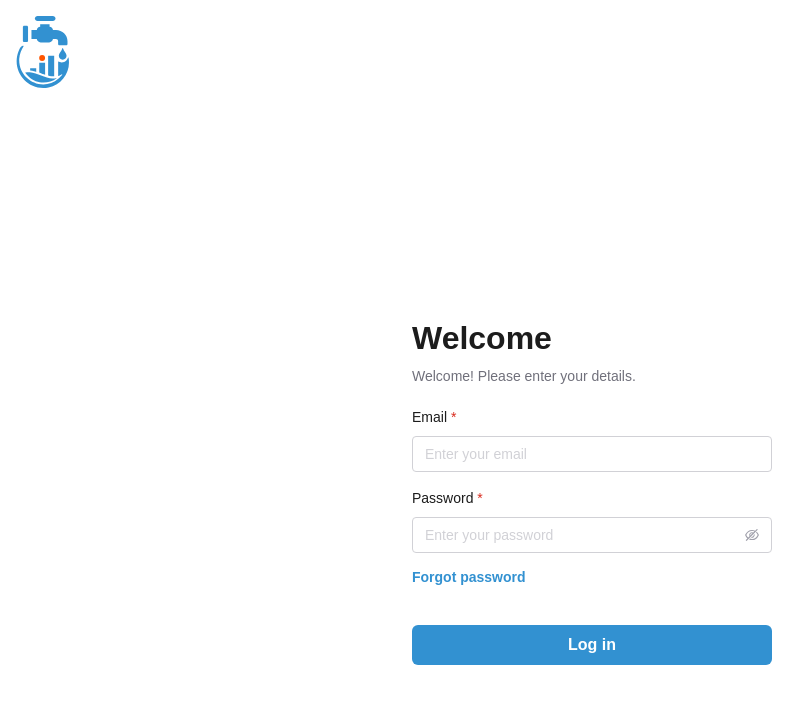
it: LoginPage — captcha enabled › blocks submit and shows captcha error until solved
In the field with placeholder "Enter your email": (592,454) left=412, top=436, right=772, bottom=472, type "user@test.com"
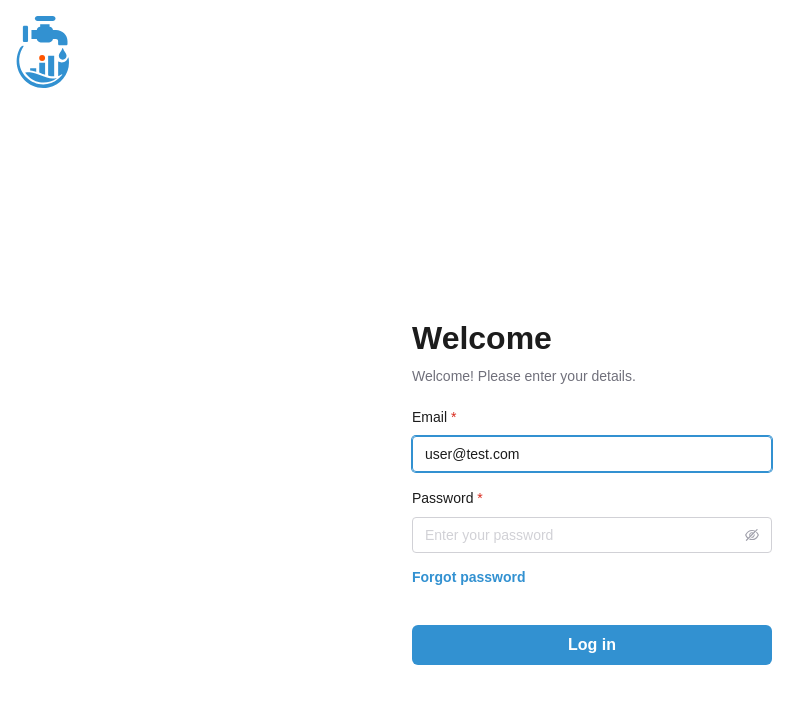
In the password field with placeholder "Enter your password": (592,535) left=412, top=517, right=772, bottom=553, type "pass"
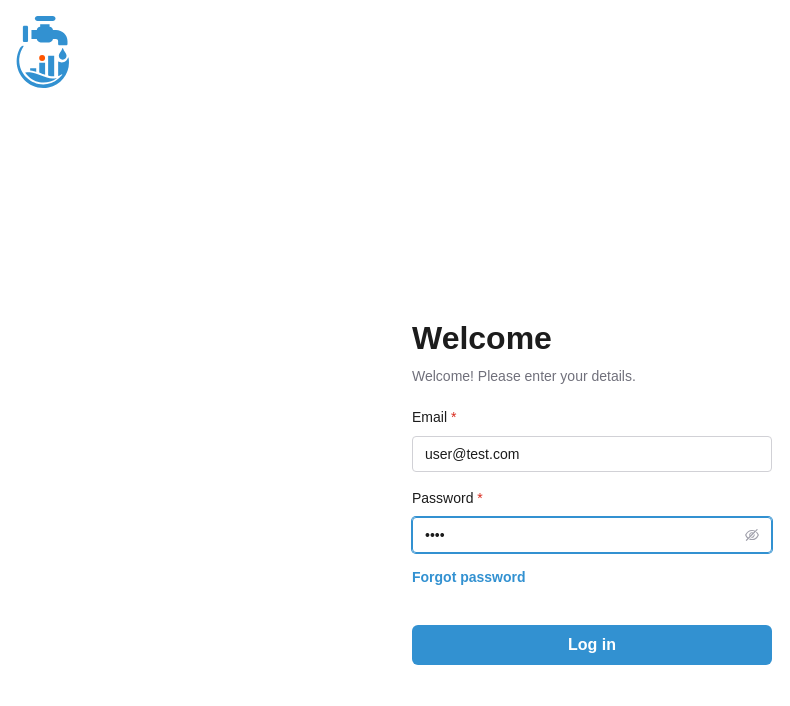
Click the button "Log in": (592,645) left=412, top=625, right=772, bottom=665
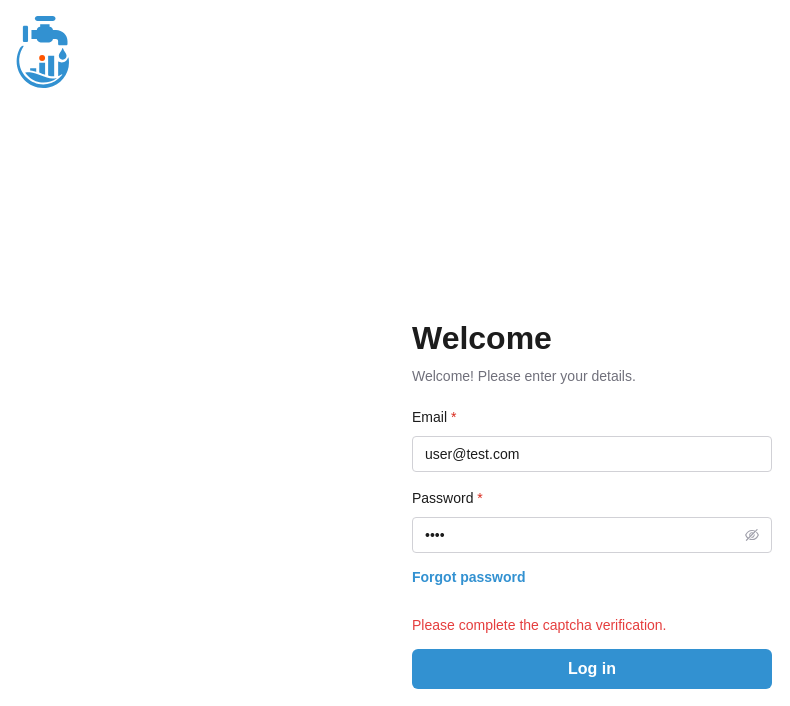
Expected: the text "Please complete the captcha verification." is shown, left=412, top=617, right=666, bottom=633
